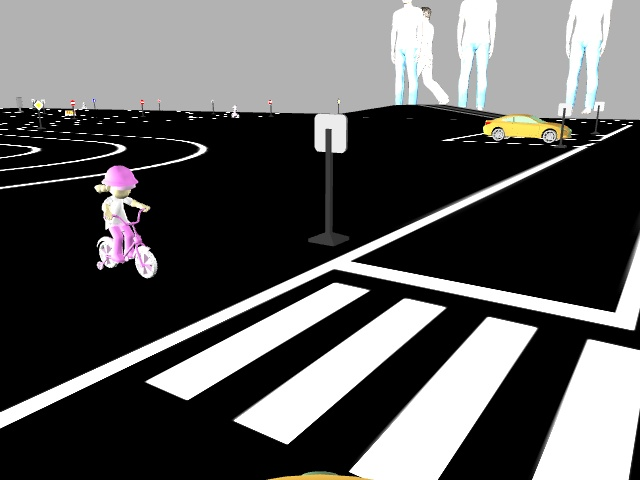Pedestrian: (87, 159, 162, 282)
